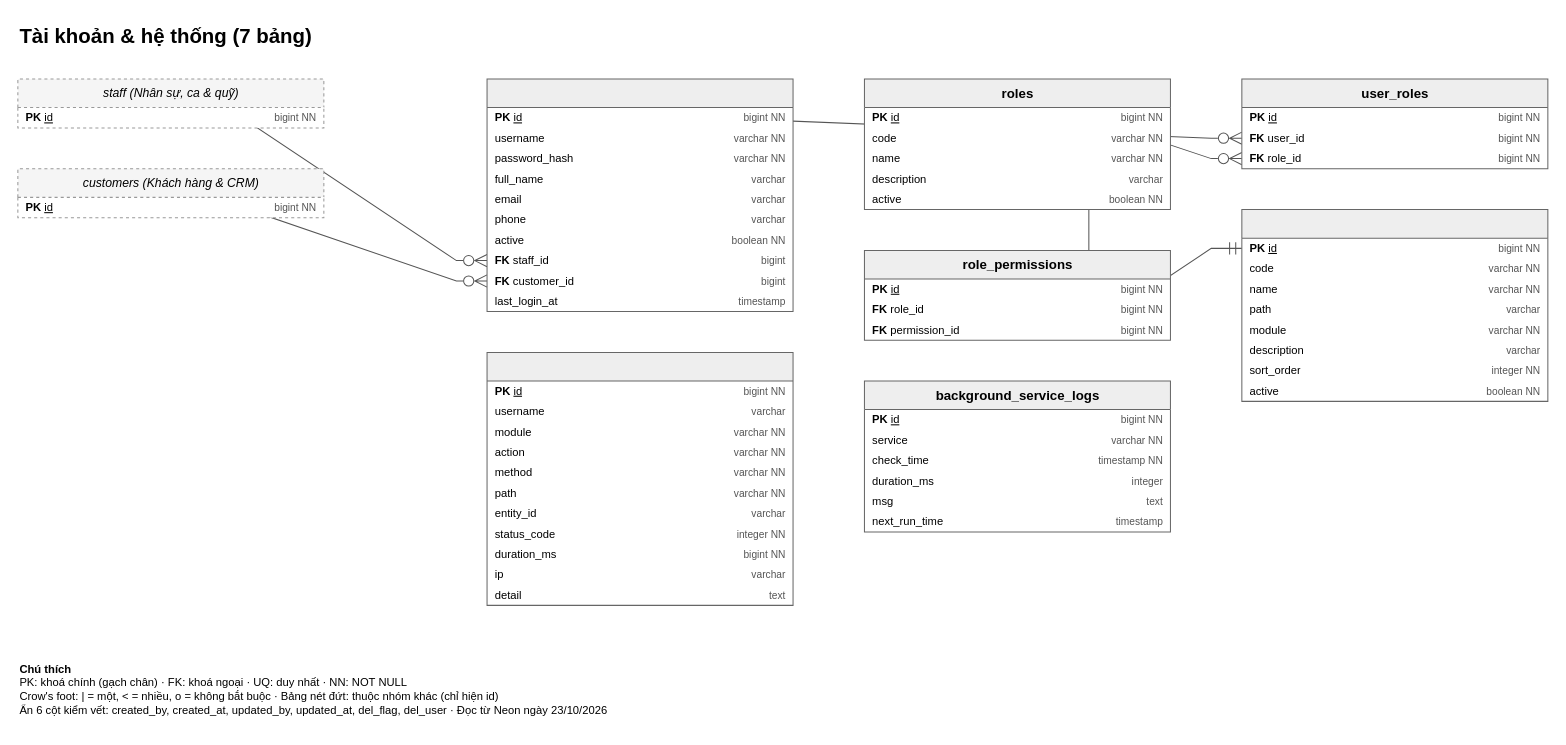
The diagram is 1566 pixels wide and 745 high, and some of its shapes have lost their labels. Here are the shapes that lost their labels. From the top down, the box of each, then its label:
(486, 78, 793, 312): users
(1241, 209, 1548, 401): permissions
(486, 351, 793, 605): audit_logs
